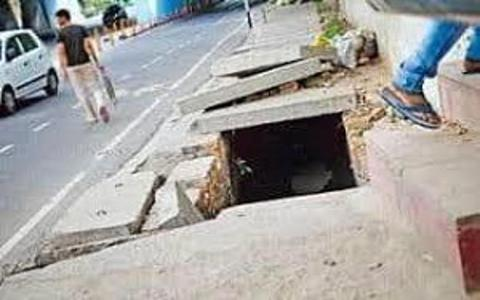open manhole: (211, 113, 366, 233)
